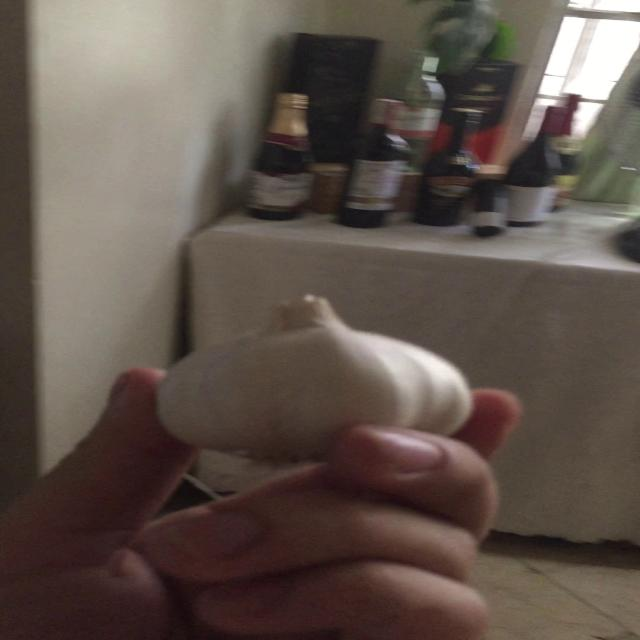garlic: (156, 288, 479, 470)
